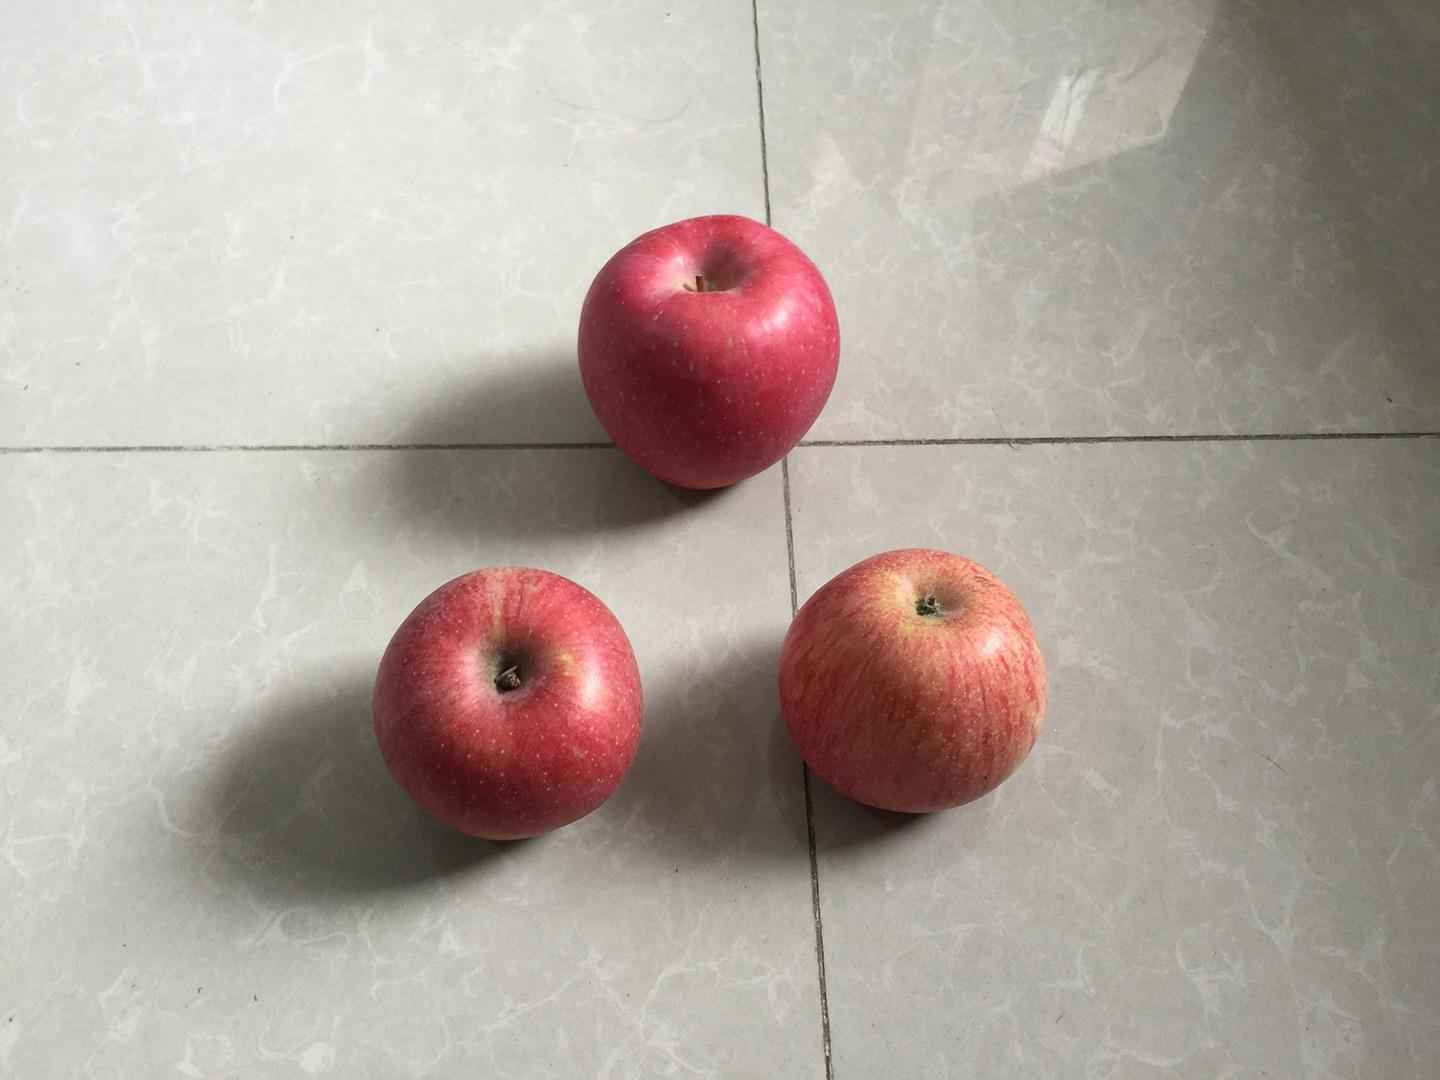apple: (369, 562, 653, 850), (571, 208, 849, 501), (774, 542, 1054, 822)
